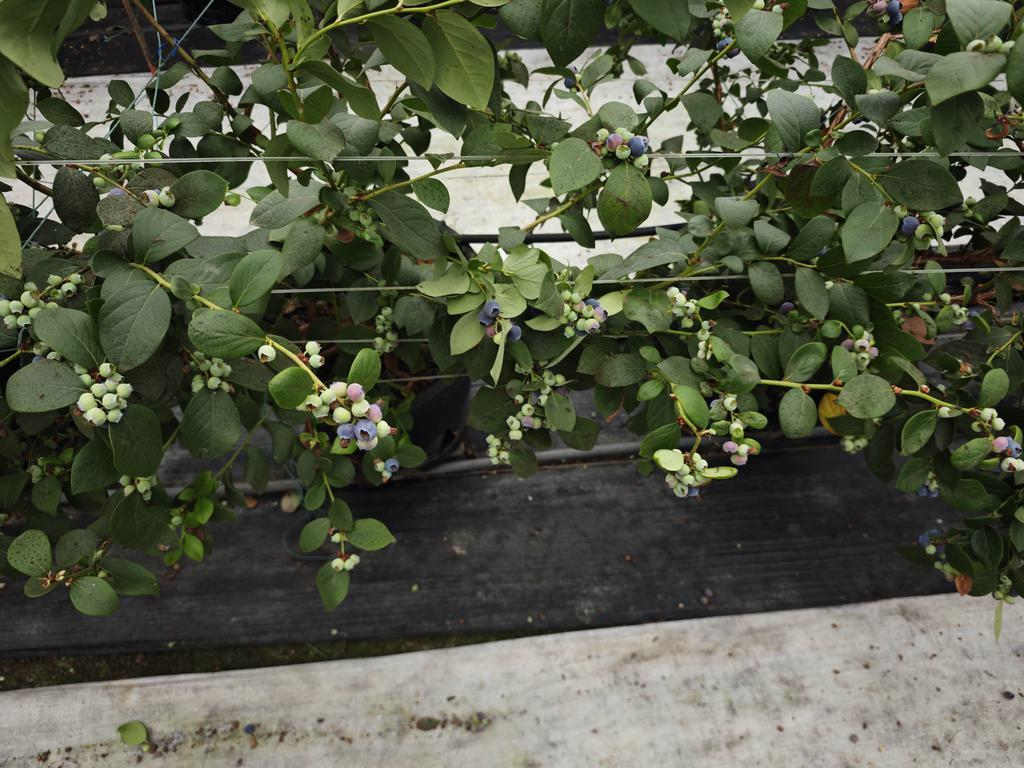RipeBlueBerry: (357, 421, 381, 444), (479, 303, 502, 323)
Semi-RipeBlueBerry: (112, 382, 140, 407), (609, 129, 627, 156), (351, 379, 369, 399)
UnripeBlueBerry: (254, 344, 276, 364), (82, 392, 104, 412), (633, 134, 647, 158)
